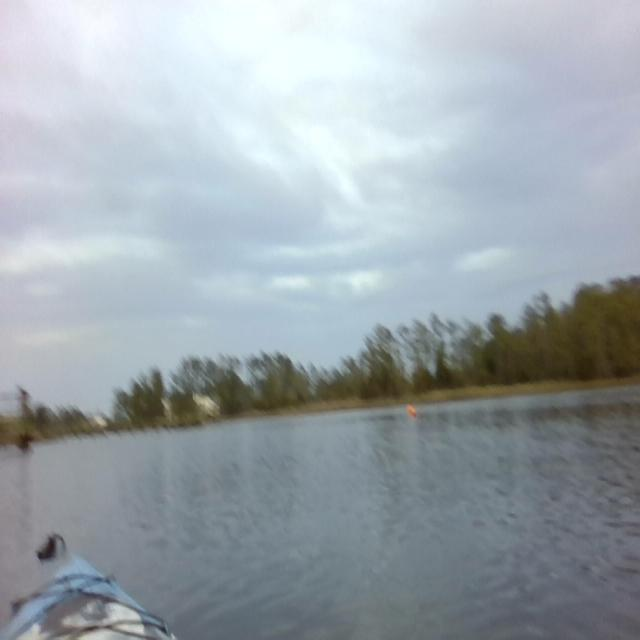Buoy: (404, 397, 418, 422)
